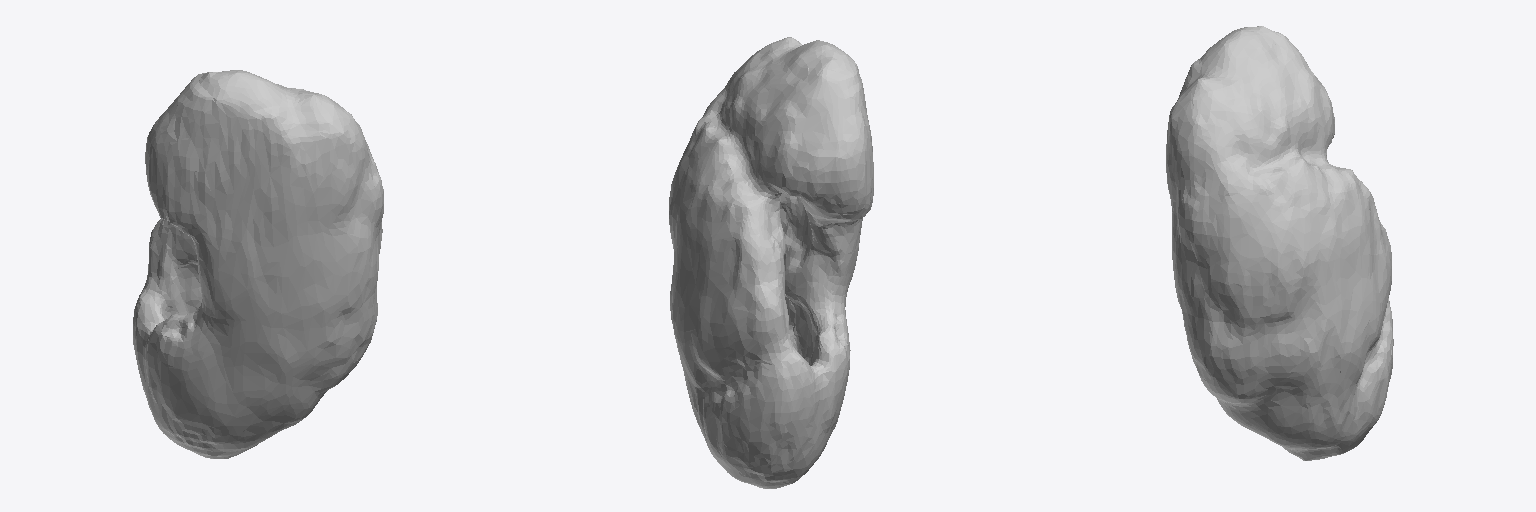
File: KV1_KidneyRight.obj
The picture shows the model from 3 angles: view 1: azimuth 30°, elevation 25°; view 2: azimuth 150°, elevation 25°; view 3: azimuth 270°, elevation 25°; orthographic projection.
Parts seen in each view (by area): view 1: KidneyRight_CortexRight_Bladder_combo; view 2: KidneyRight_CortexRight_Bladder_combo; view 3: KidneyRight_CortexRight_Bladder_combo.
Part boxes in pixels (bbox=[...]): KidneyRight_CortexRight_Bladder_combo: bbox=[133, 70, 383, 458]; KidneyRight_CortexRight_Bladder_combo: bbox=[669, 37, 873, 488]; KidneyRight_CortexRight_Bladder_combo: bbox=[1166, 26, 1393, 460].
Size of the model in its own units: 57.68 by 112 by 55.68.